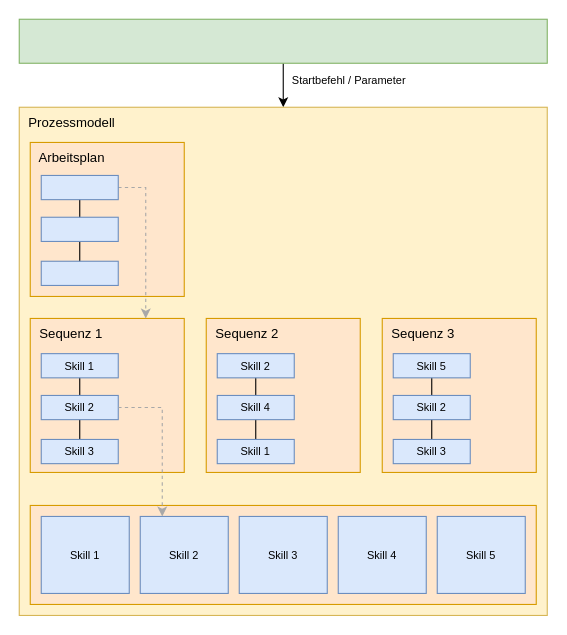
Image size: 567x635. Some labels were removed from this diagram. The centre of each missing label's shape, as x and y in pixels:
"HMI" goes at point (282, 40).
"Seq1" goes at point (79, 187).
"Seq2" goes at point (79, 228).
"Seq3" goes at point (79, 272).
